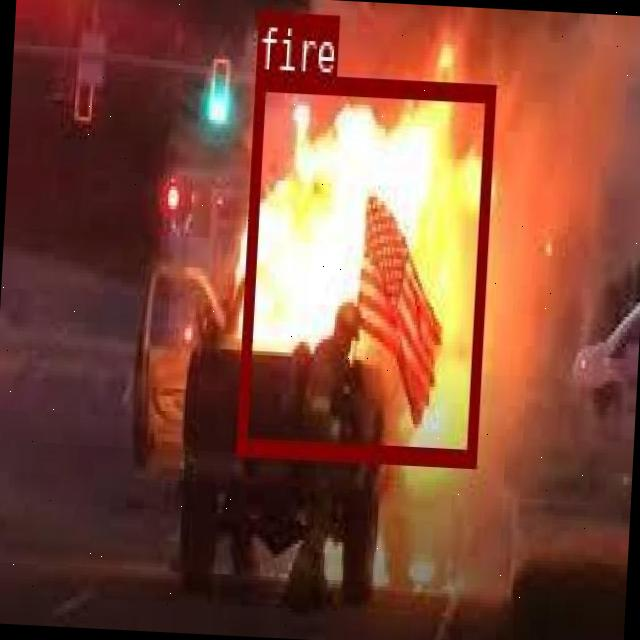fire: (235, 69, 494, 464)
